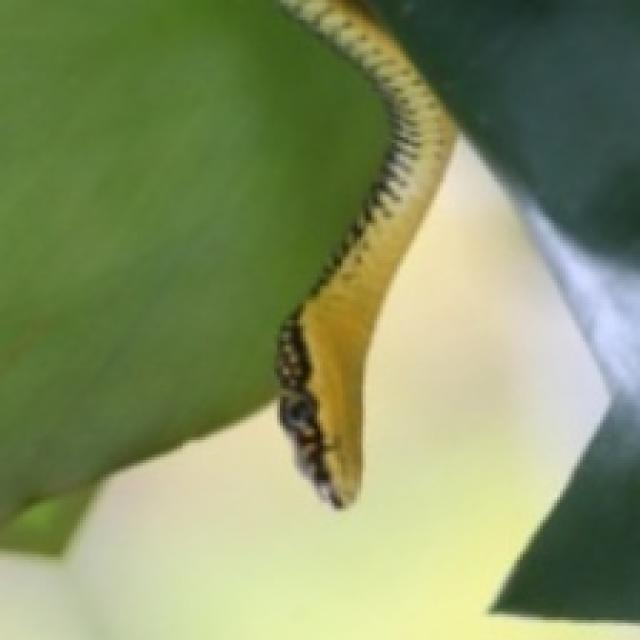paradise tree snake: (277, 0, 454, 506)
